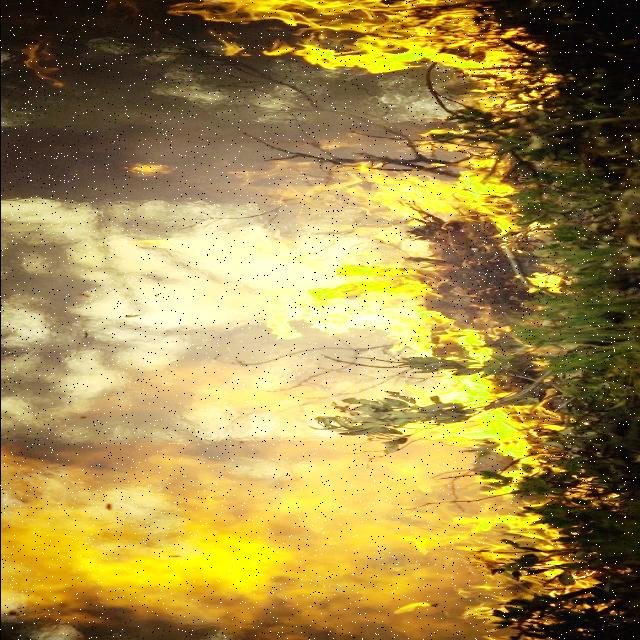api: (8, 444, 434, 603), (186, 1, 563, 80), (239, 142, 509, 223), (237, 254, 444, 338), (413, 407, 548, 453), (450, 510, 548, 553), (467, 78, 561, 117), (413, 368, 496, 402), (528, 269, 576, 290), (137, 166, 170, 178)
